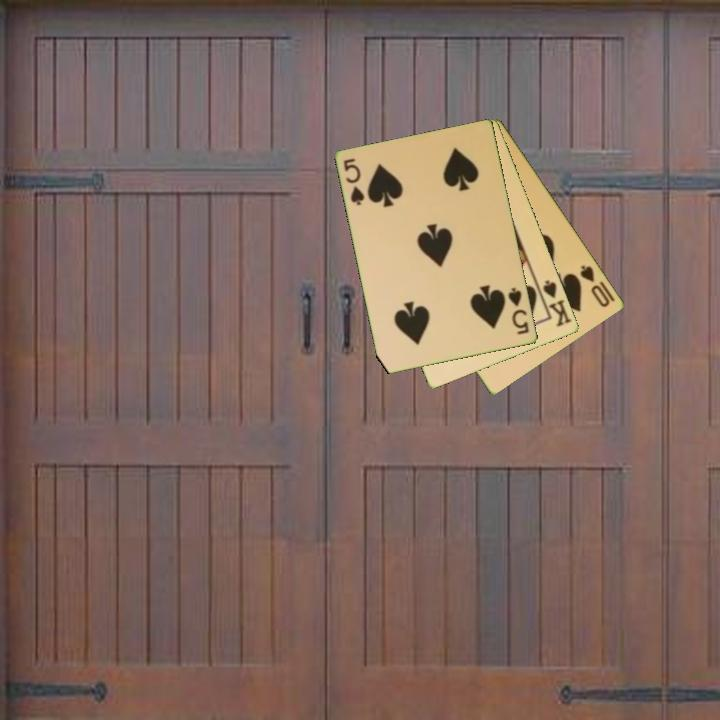10s: (577, 261, 613, 310)
5s: (340, 155, 368, 208), (505, 284, 532, 338)
Ks: (539, 276, 575, 330)
